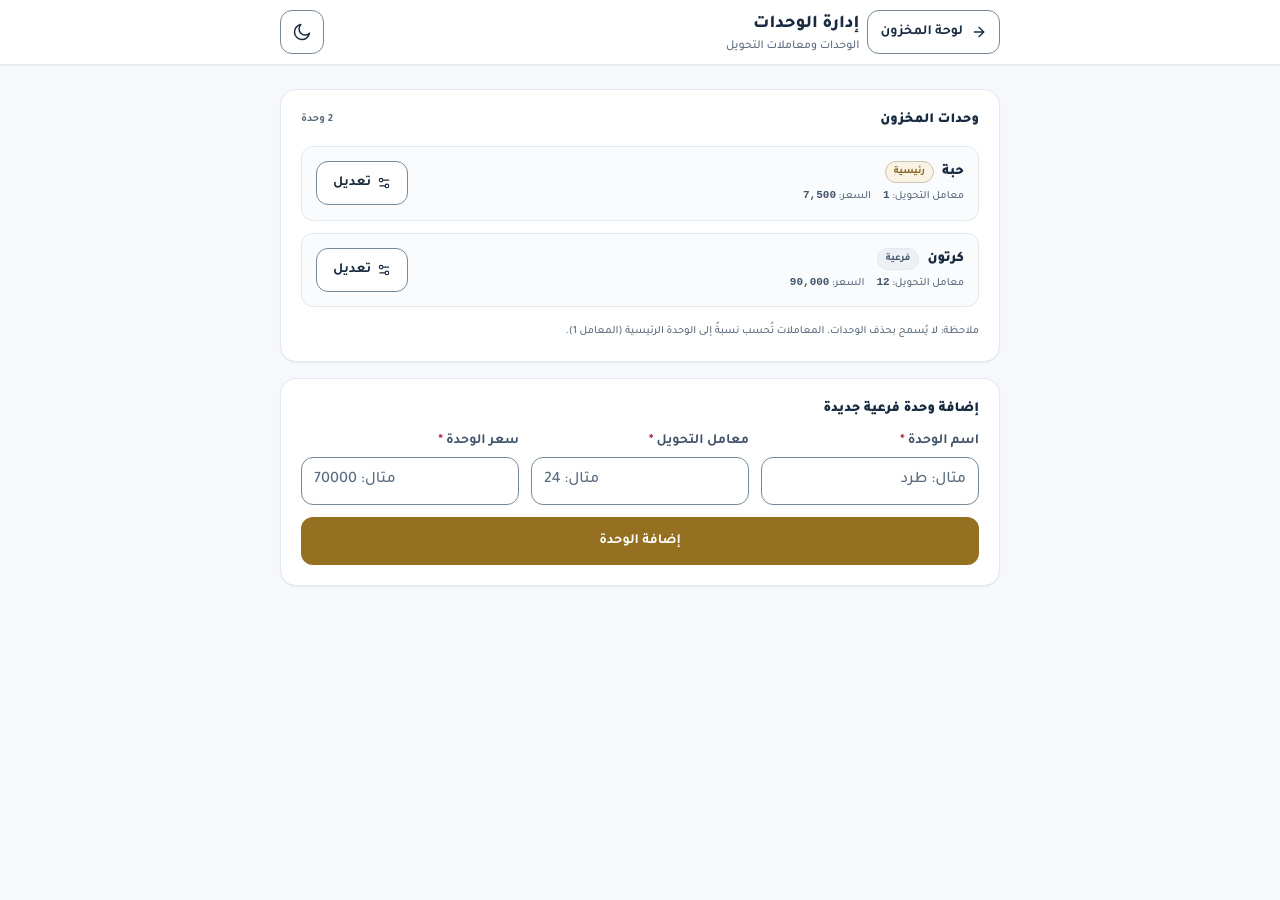
Scenario: StockUnitsPage — إضافة وحدة فرعية › يرفض الاسم المكرر محلياً دون إرسال
Expected: the heading "إضافة وحدة فرعية جديدة" is shown, [823,402,979,416]
In the field with placeholder "مثال: طرد": (870, 481) [761,457,979,505], type "حبة"
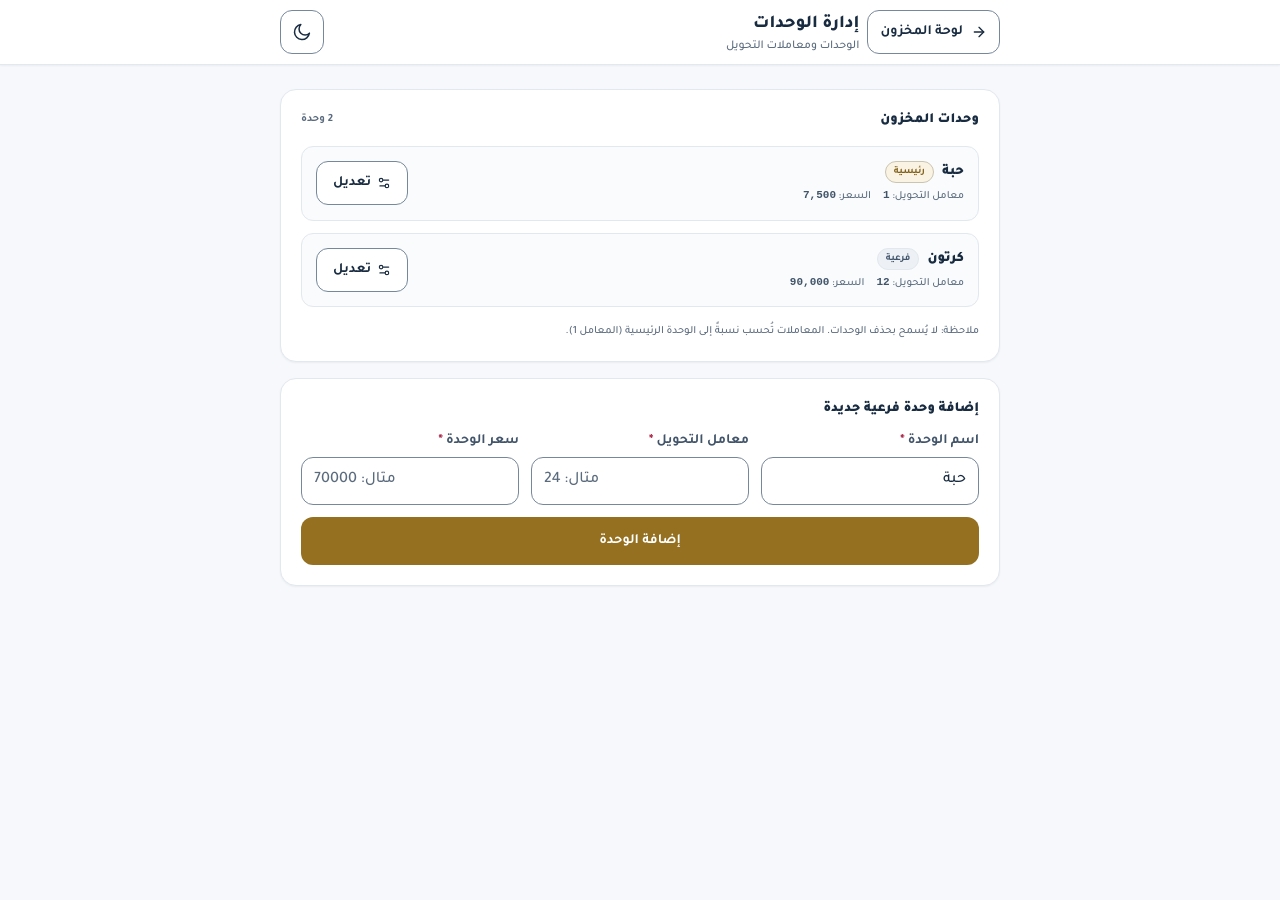
In the field with placeholder "مثال: 24": (640, 481) [531,457,749,505], type "24"
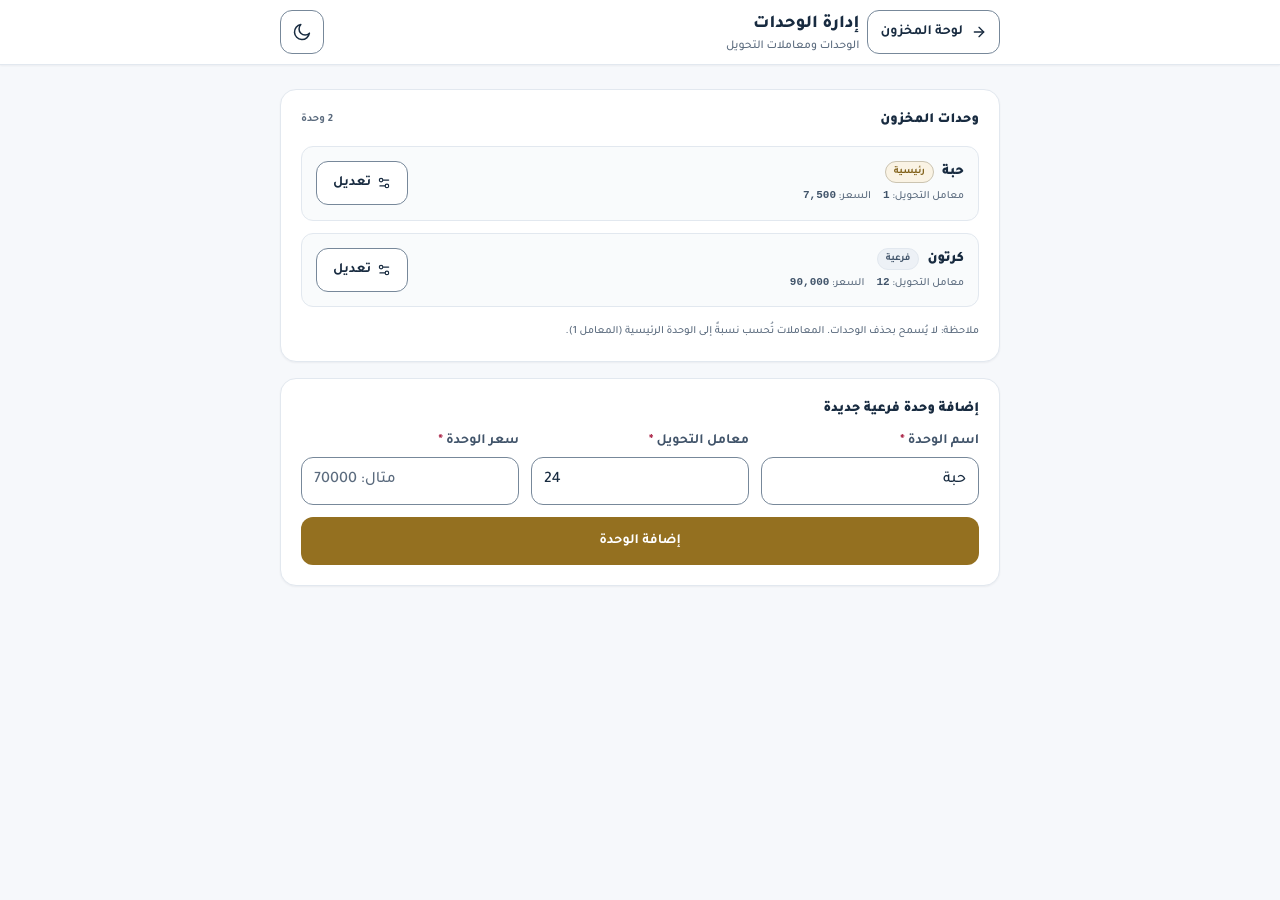
In the number field with placeholder "مثال: 70000": (410, 481) [301,457,519,505], type "150000"
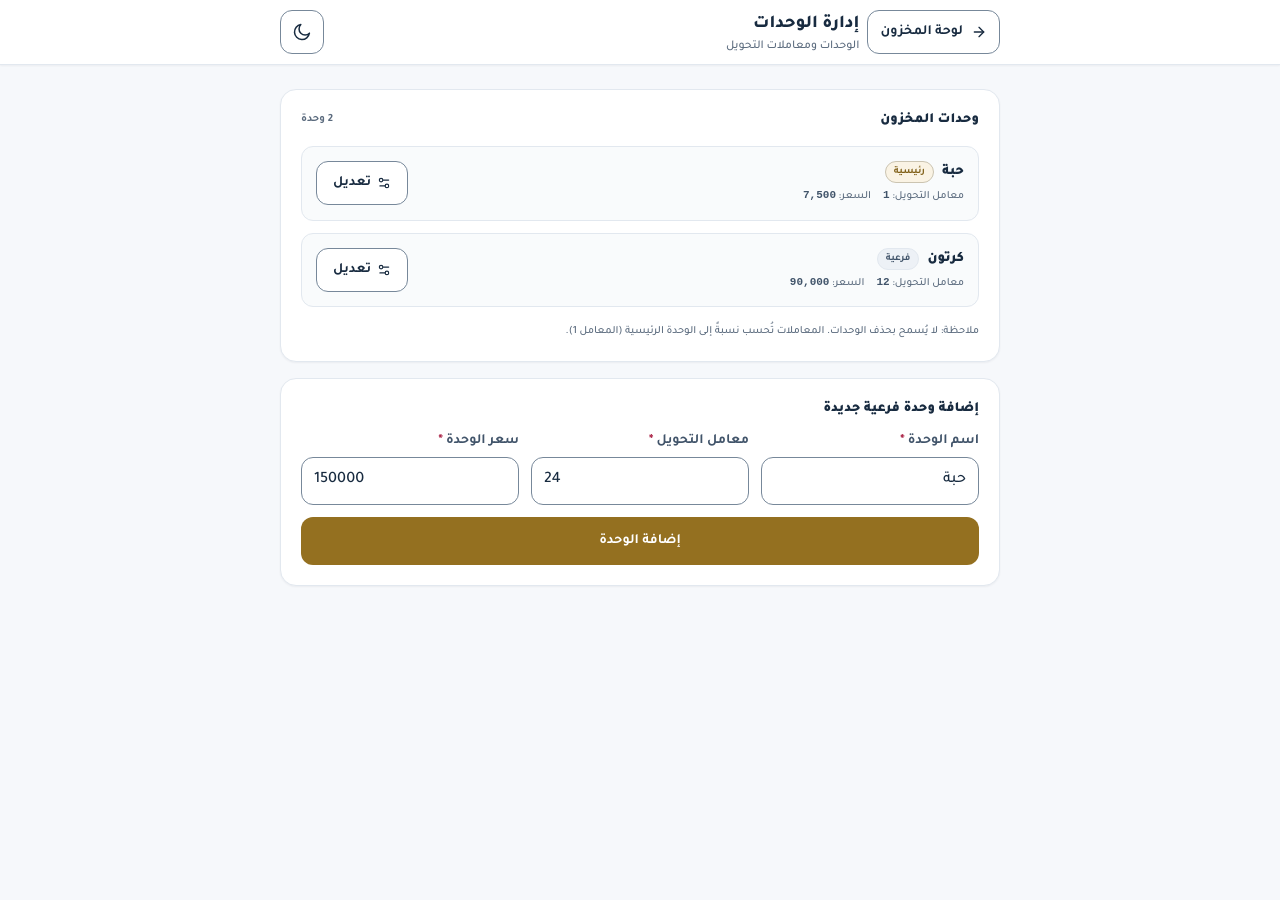
Click the button "إضافة الوحدة": (640, 541) [301,517,979,565]
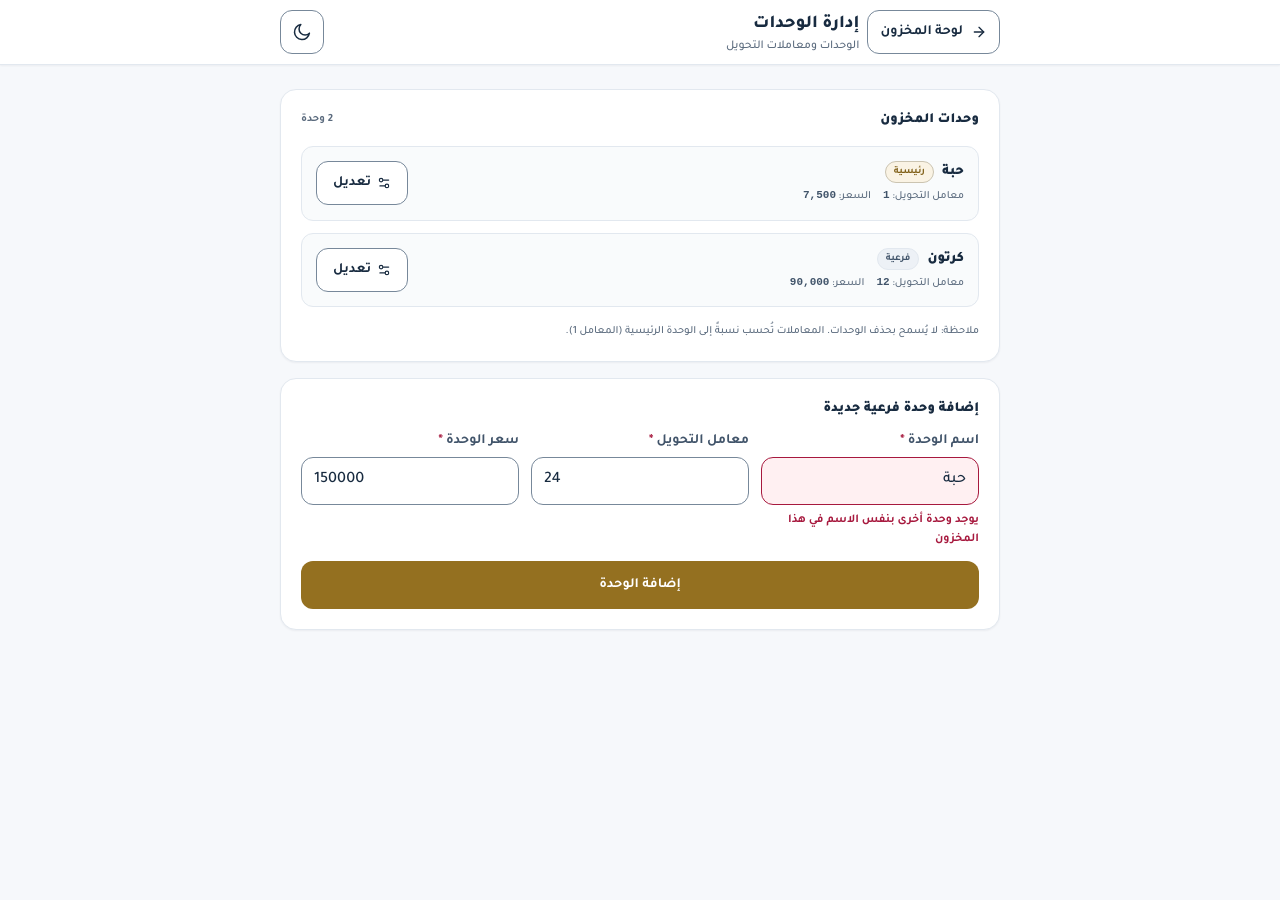
Now the text "يوجد وحدة أخرى بنفس الاسم في هذا المخزون" is shown, box [761,511,979,550]
